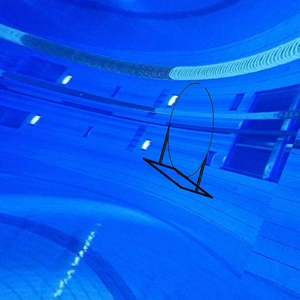circle: (143, 81, 215, 199)
